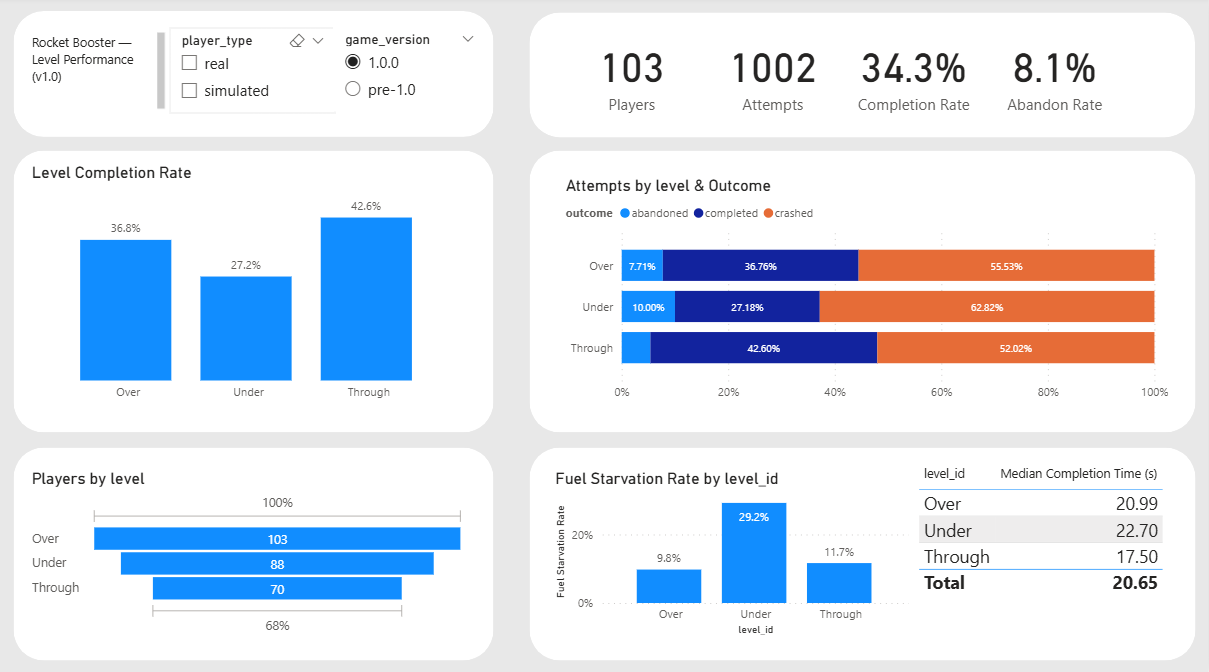

The page's visual inventory and layout, read from the dashboard file:
{"tool":"powerbi","page":{"name":"Level Performance","canvas":[1280,720],"ordinal":0},"visuals":[{"type":"shape","box":[14.3,163.7,508.6,298.8],"z":0},{"type":"shape","box":[561.5,17,705.2,132.3],"z":1000},{"type":"card","fields":{"Values":["level_attempts.Players"]},"box":[594.4,31.8,149.4,100.1],"z":2000},{"type":"card","fields":{"Values":["level_attempts.Attempts"]},"box":[743.8,31.8,149.4,100.1],"z":3000},{"type":"card","fields":{"Values":["level_attempts.Completion Rate"]},"box":[893.2,31.8,149.4,100.1],"z":4000},{"type":"card","fields":{"Values":["level_attempts.Abandon Rate"]},"box":[1042.6,31.8,149.4,100.1],"z":5000},{"type":"clusteredColumnChart","title":"Level Completion Rate","fields":{"Category":["level_attempts.level_id"],"Y":["level_attempts.Completion Rate"]},"box":[28.6,176.4,468.9,260.7],"z":6000},{"type":"shape","box":[14.3,15.9,508.6,133.5],"z":7000},{"type":"shape","box":[561.1,163.7,705.7,298.8],"z":7001},{"type":"hundredPercentStackedBarChart","title":"Attempts by level & Outcome","fields":{"Category":["level_attempts.level_id"],"Series":["level_attempts.outcome"],"Y":["level_attempts.Attempts"]},"box":[594.4,190.7,648.5,246.4],"z":7002},{"type":"shape","box":[14.3,478.4,508.6,225.7],"z":7003},{"type":"shape","box":[561.1,478.4,705.7,225.7],"z":7004},{"type":"funnel","title":"Players by level","fields":{"Category":["level_attempts.level_id"],"Y":["level_attempts.Players"]},"box":[28.6,500.7,468.9,181.2],"z":7005},{"type":"tableEx","fields":{"Values":["level_attempts.level_id","level_attempts.Median Completion Time (s)"]},"box":[967.9,489.5,275,192.3],"z":7006},{"type":"slicer","fields":{"Values":["sessions.player_type"]},"box":[179.6,33.4,176.4,90.6],"z":7007},{"type":"slicer","fields":{"Values":["sessions.game_version"]},"box":[352.8,31.8,162.1,90.6],"z":7008},{"type":"donutChart","fields":{"Category":["level_attempts.level_id"],"Y":["level_attempts.Fuel Starvation Rate"]},"box":[583.3,500.7,384.6,181.2],"z":7009},{"type":"textbox","box":[28.6,33.4,151,95.4],"z":7010}]}

Visuals, with their boxes in screenshot pixels (x1, y1, x2, y2), scaled from the page's 1280x720 canvas onto the 1209x672 screenshot:
shape: <bbox>14, 153, 494, 432</bbox>
shape: <bbox>530, 16, 1196, 139</bbox>
card - level_attempts.Players: <bbox>561, 30, 703, 123</bbox>
card - level_attempts.Attempts: <bbox>703, 30, 844, 123</bbox>
card - level_attempts.Completion Rate: <bbox>844, 30, 985, 123</bbox>
card - level_attempts.Abandon Rate: <bbox>985, 30, 1126, 123</bbox>
"Level Completion Rate" clusteredColumnChart: <bbox>27, 165, 470, 408</bbox>
shape: <bbox>14, 15, 494, 139</bbox>
shape: <bbox>530, 153, 1197, 432</bbox>
"Attempts by level & Outcome" hundredPercentStackedBarChart: <bbox>561, 178, 1174, 408</bbox>
shape: <bbox>14, 447, 494, 657</bbox>
shape: <bbox>530, 447, 1197, 657</bbox>
"Players by level" funnel: <bbox>27, 467, 470, 636</bbox>
tableEx - level_attempts.level_id x level_attempts.Median Completion Time (s): <bbox>914, 457, 1174, 636</bbox>
slicer - sessions.player_type: <bbox>170, 31, 336, 116</bbox>
slicer - sessions.game_version: <bbox>333, 30, 486, 114</bbox>
donutChart - level_attempts.level_id x level_attempts.Fuel Starvation Rate: <bbox>551, 467, 914, 636</bbox>
textbox: <bbox>27, 31, 170, 120</bbox>
